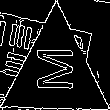M_W: (33, 49, 78, 96)
